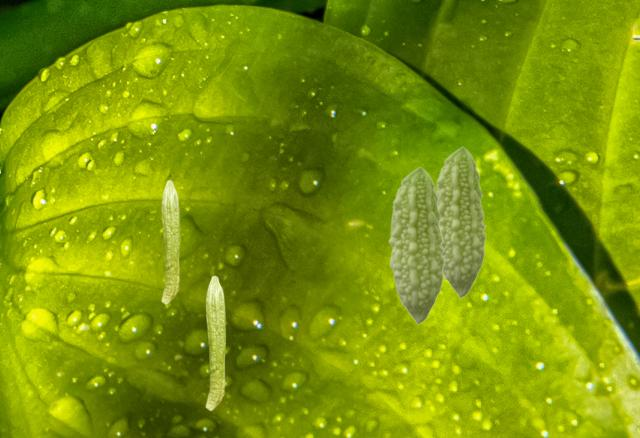ampalaya: (388, 166, 445, 324), (436, 146, 486, 298), (205, 275, 226, 411), (161, 179, 180, 305)
